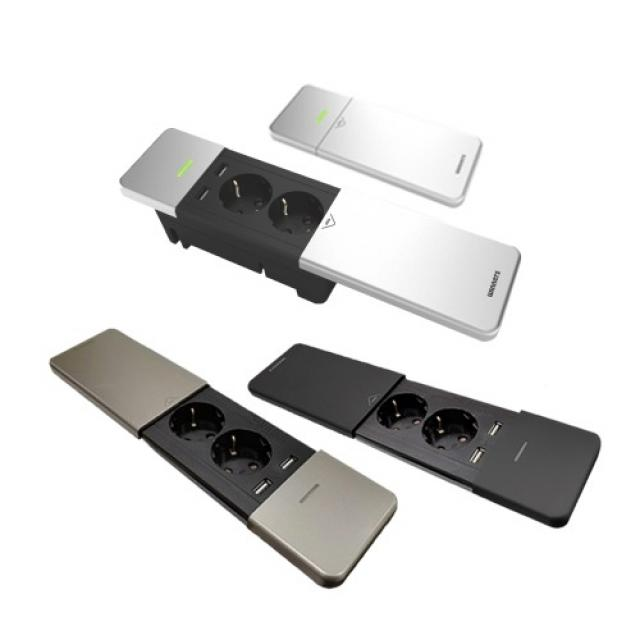typeb: (122, 371, 318, 530), (353, 370, 495, 488), (202, 151, 330, 255)
